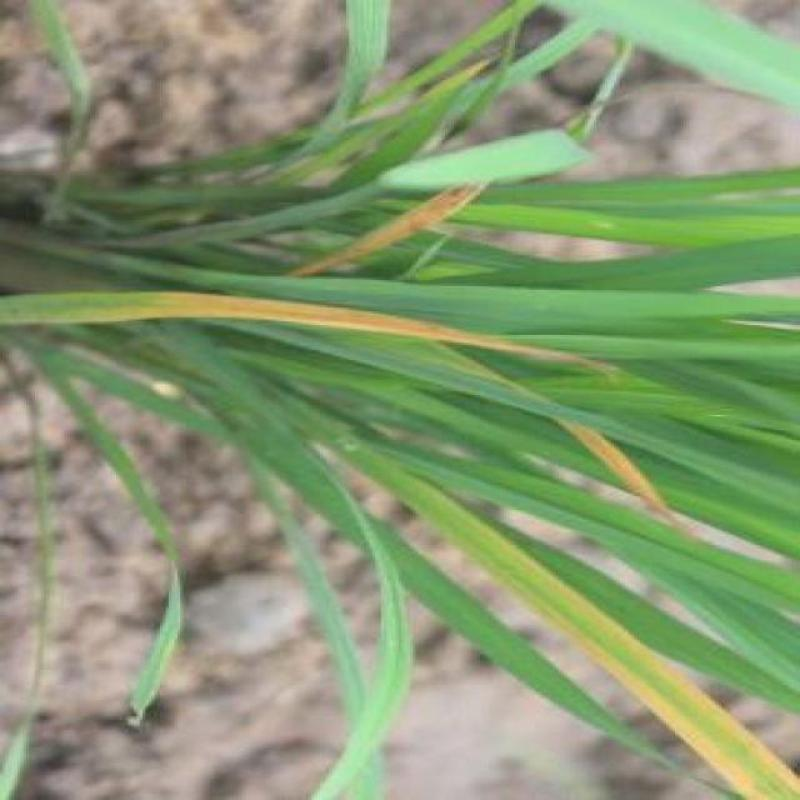Rice Tungro: (133, 280, 612, 379), (578, 427, 676, 508)
